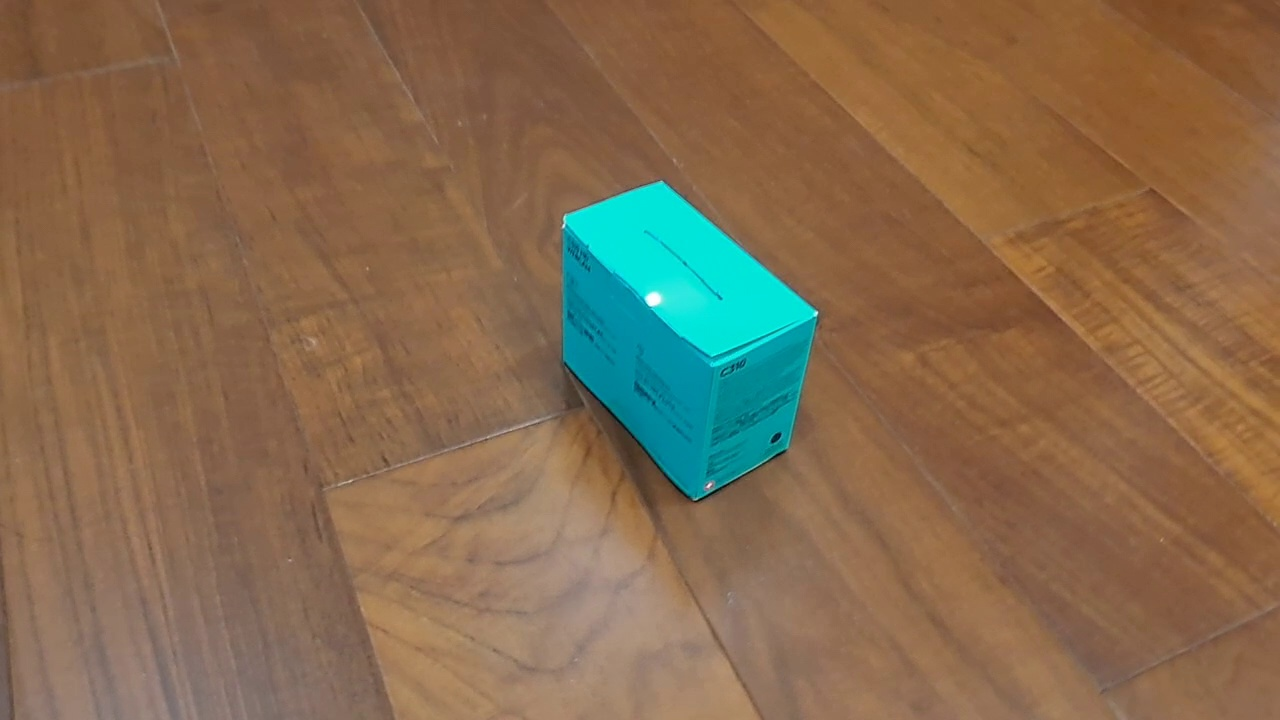webcam: (560, 177, 822, 506)
